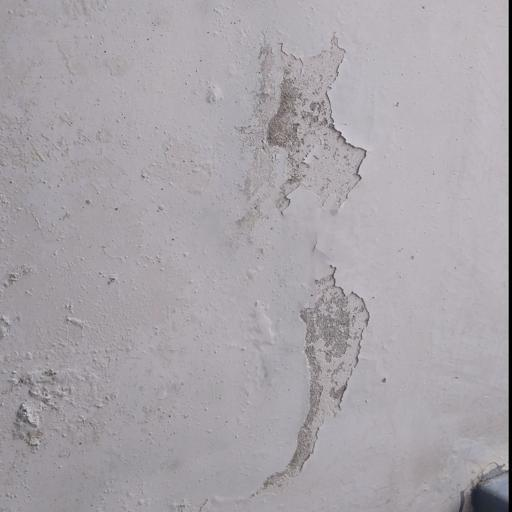peeling: (252, 258, 398, 508), (239, 27, 390, 230)
